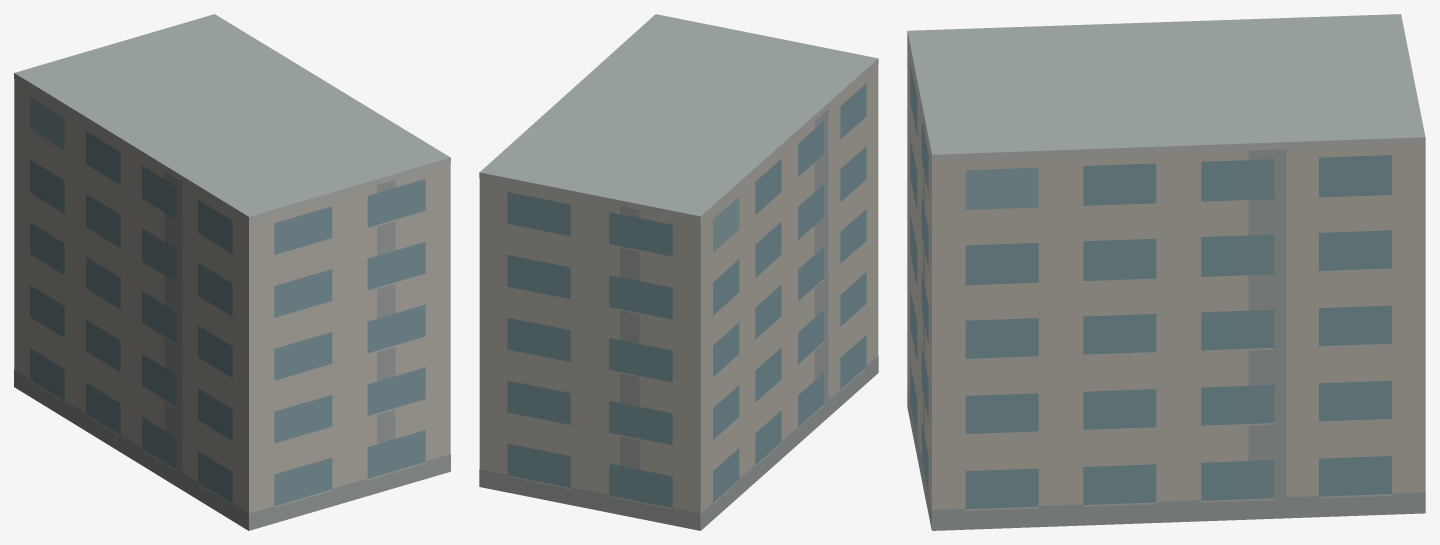
Rendered from survey-upis-32723994.glb.
The picture shows the model from 3 angles, left to right: view 1: azimuth 30°, elevation 25°; view 2: azimuth 150°, elevation 25°; view 3: azimuth 270°, elevation 25°; orthographic projection. The views are drawn at different scales.
Visible parts, largest first — view 1: survey-upis-32723994.tmp; view 2: survey-upis-32723994.tmp; view 3: survey-upis-32723994.tmp.
Part boxes in pixels (left/top/right/bottom): survey-upis-32723994.tmp: left=14, top=14, right=450, bottom=530; survey-upis-32723994.tmp: left=479, top=14, right=878, bottom=530; survey-upis-32723994.tmp: left=907, top=14, right=1425, bottom=530.
Size of the model in its own units: 10.44 by 13 by 16.24.
